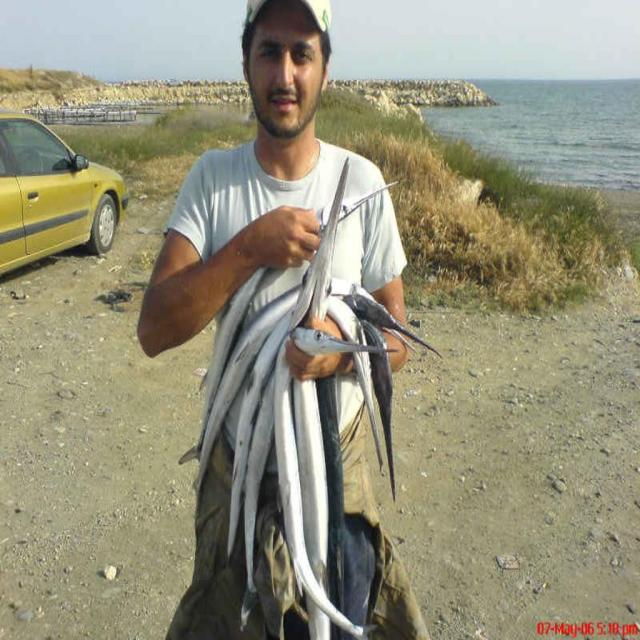Face: (243, 13, 338, 135)
